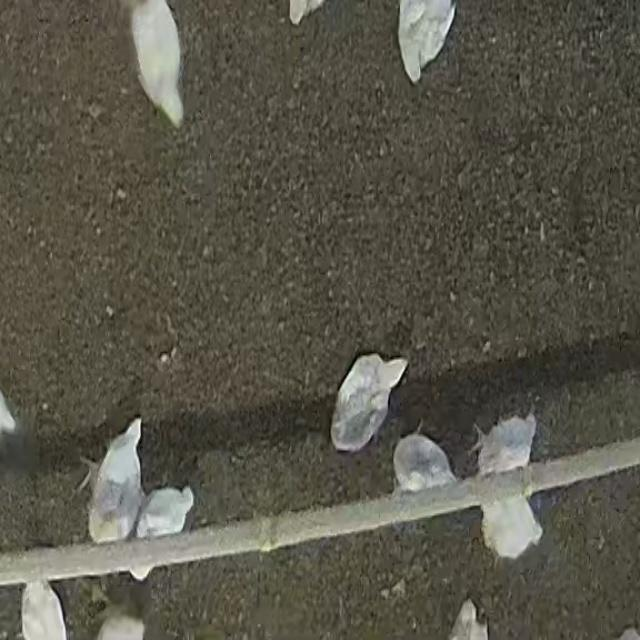chicken: (79, 420, 140, 550), (123, 0, 184, 127), (334, 355, 404, 454), (397, 0, 459, 85), (477, 489, 546, 563), (391, 429, 457, 497), (479, 418, 533, 489), (135, 484, 195, 543), (18, 579, 73, 640)
